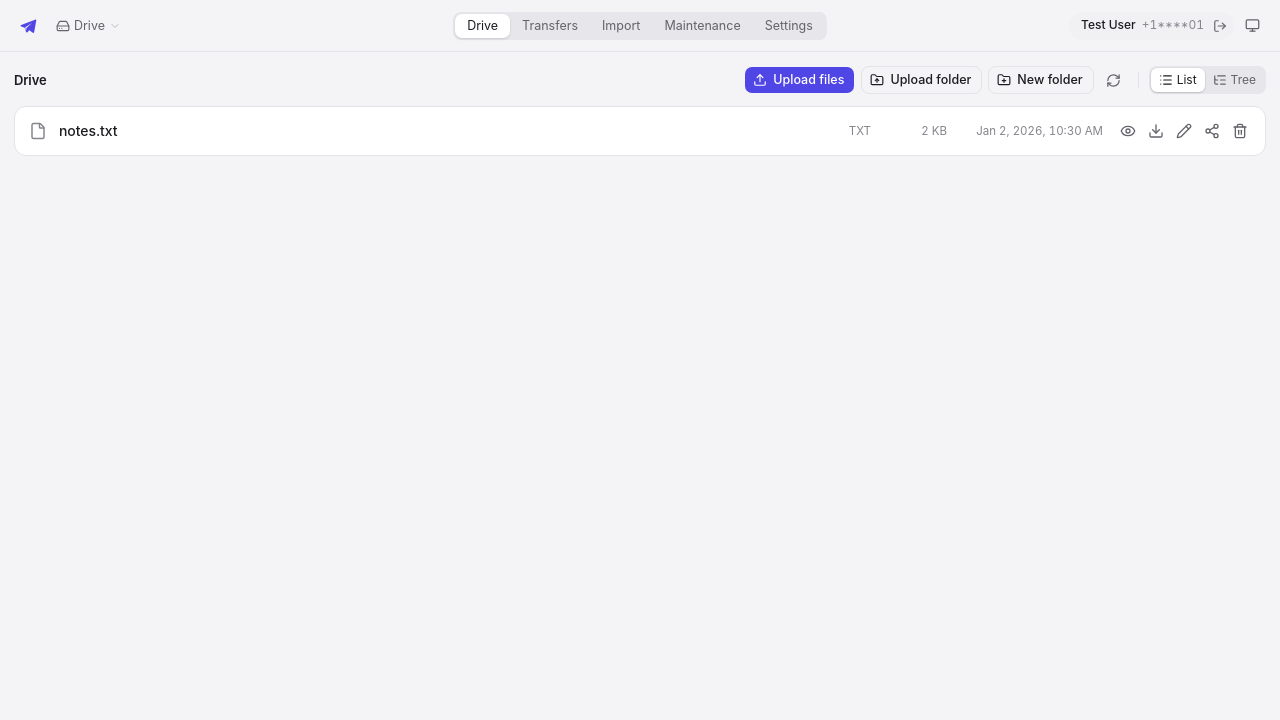
Test: an oversized file is flagged before the upload starts
Check: the list is shown, box top-left (14, 106), bottom-right (1266, 156)
Step 1. Click the button "Upload files" → (800,80), box top-left (744, 66), bottom-right (855, 94)
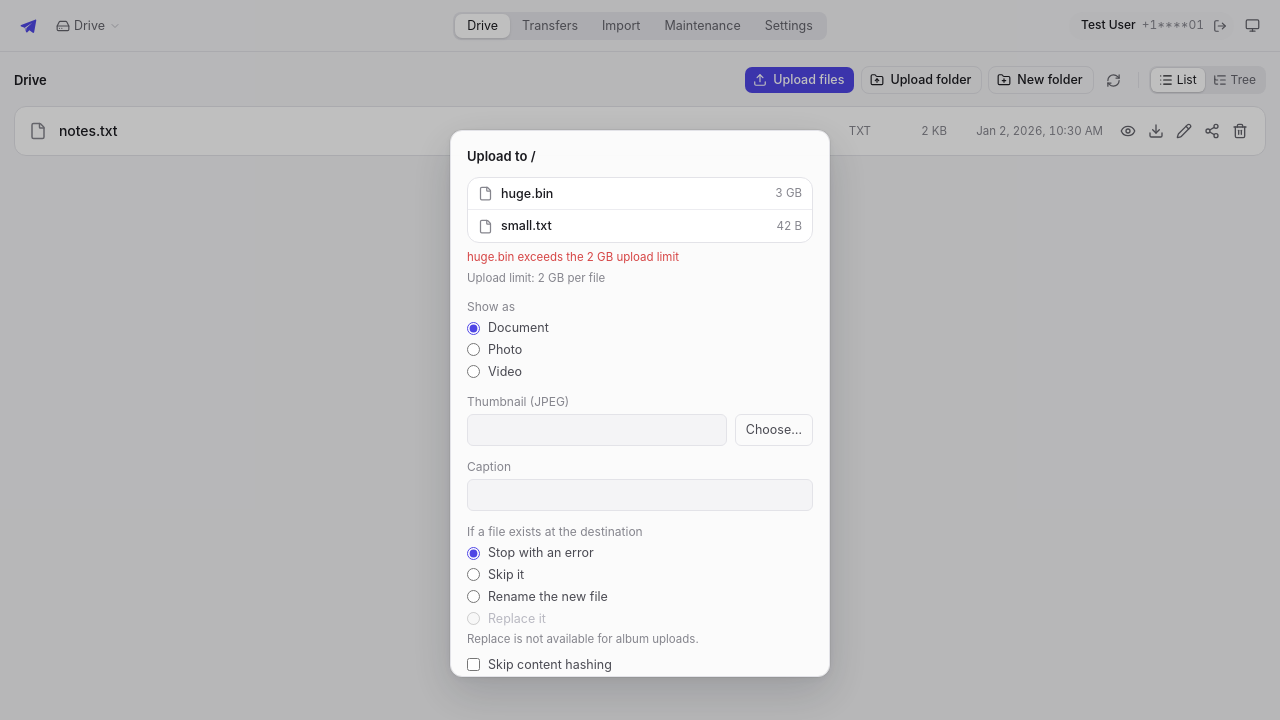
Check: the text "huge.bin exceeds the 2 GB upload limit" is shown, box top-left (467, 250), bottom-right (679, 264)
